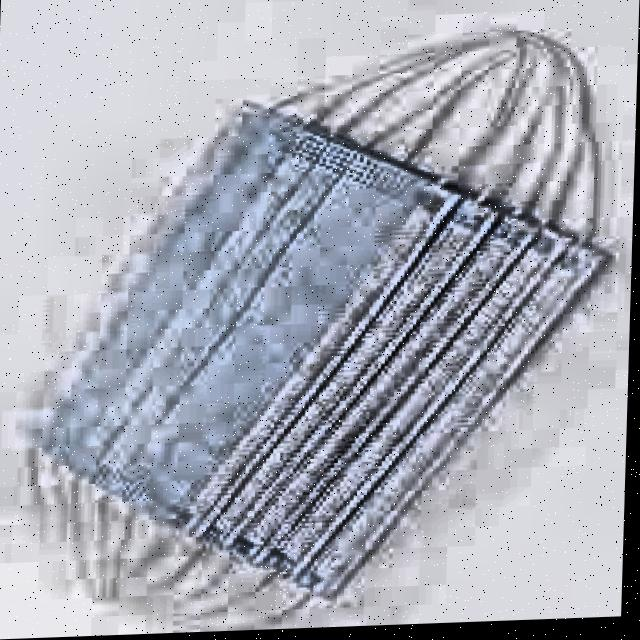trash: (17, 68, 615, 607)
